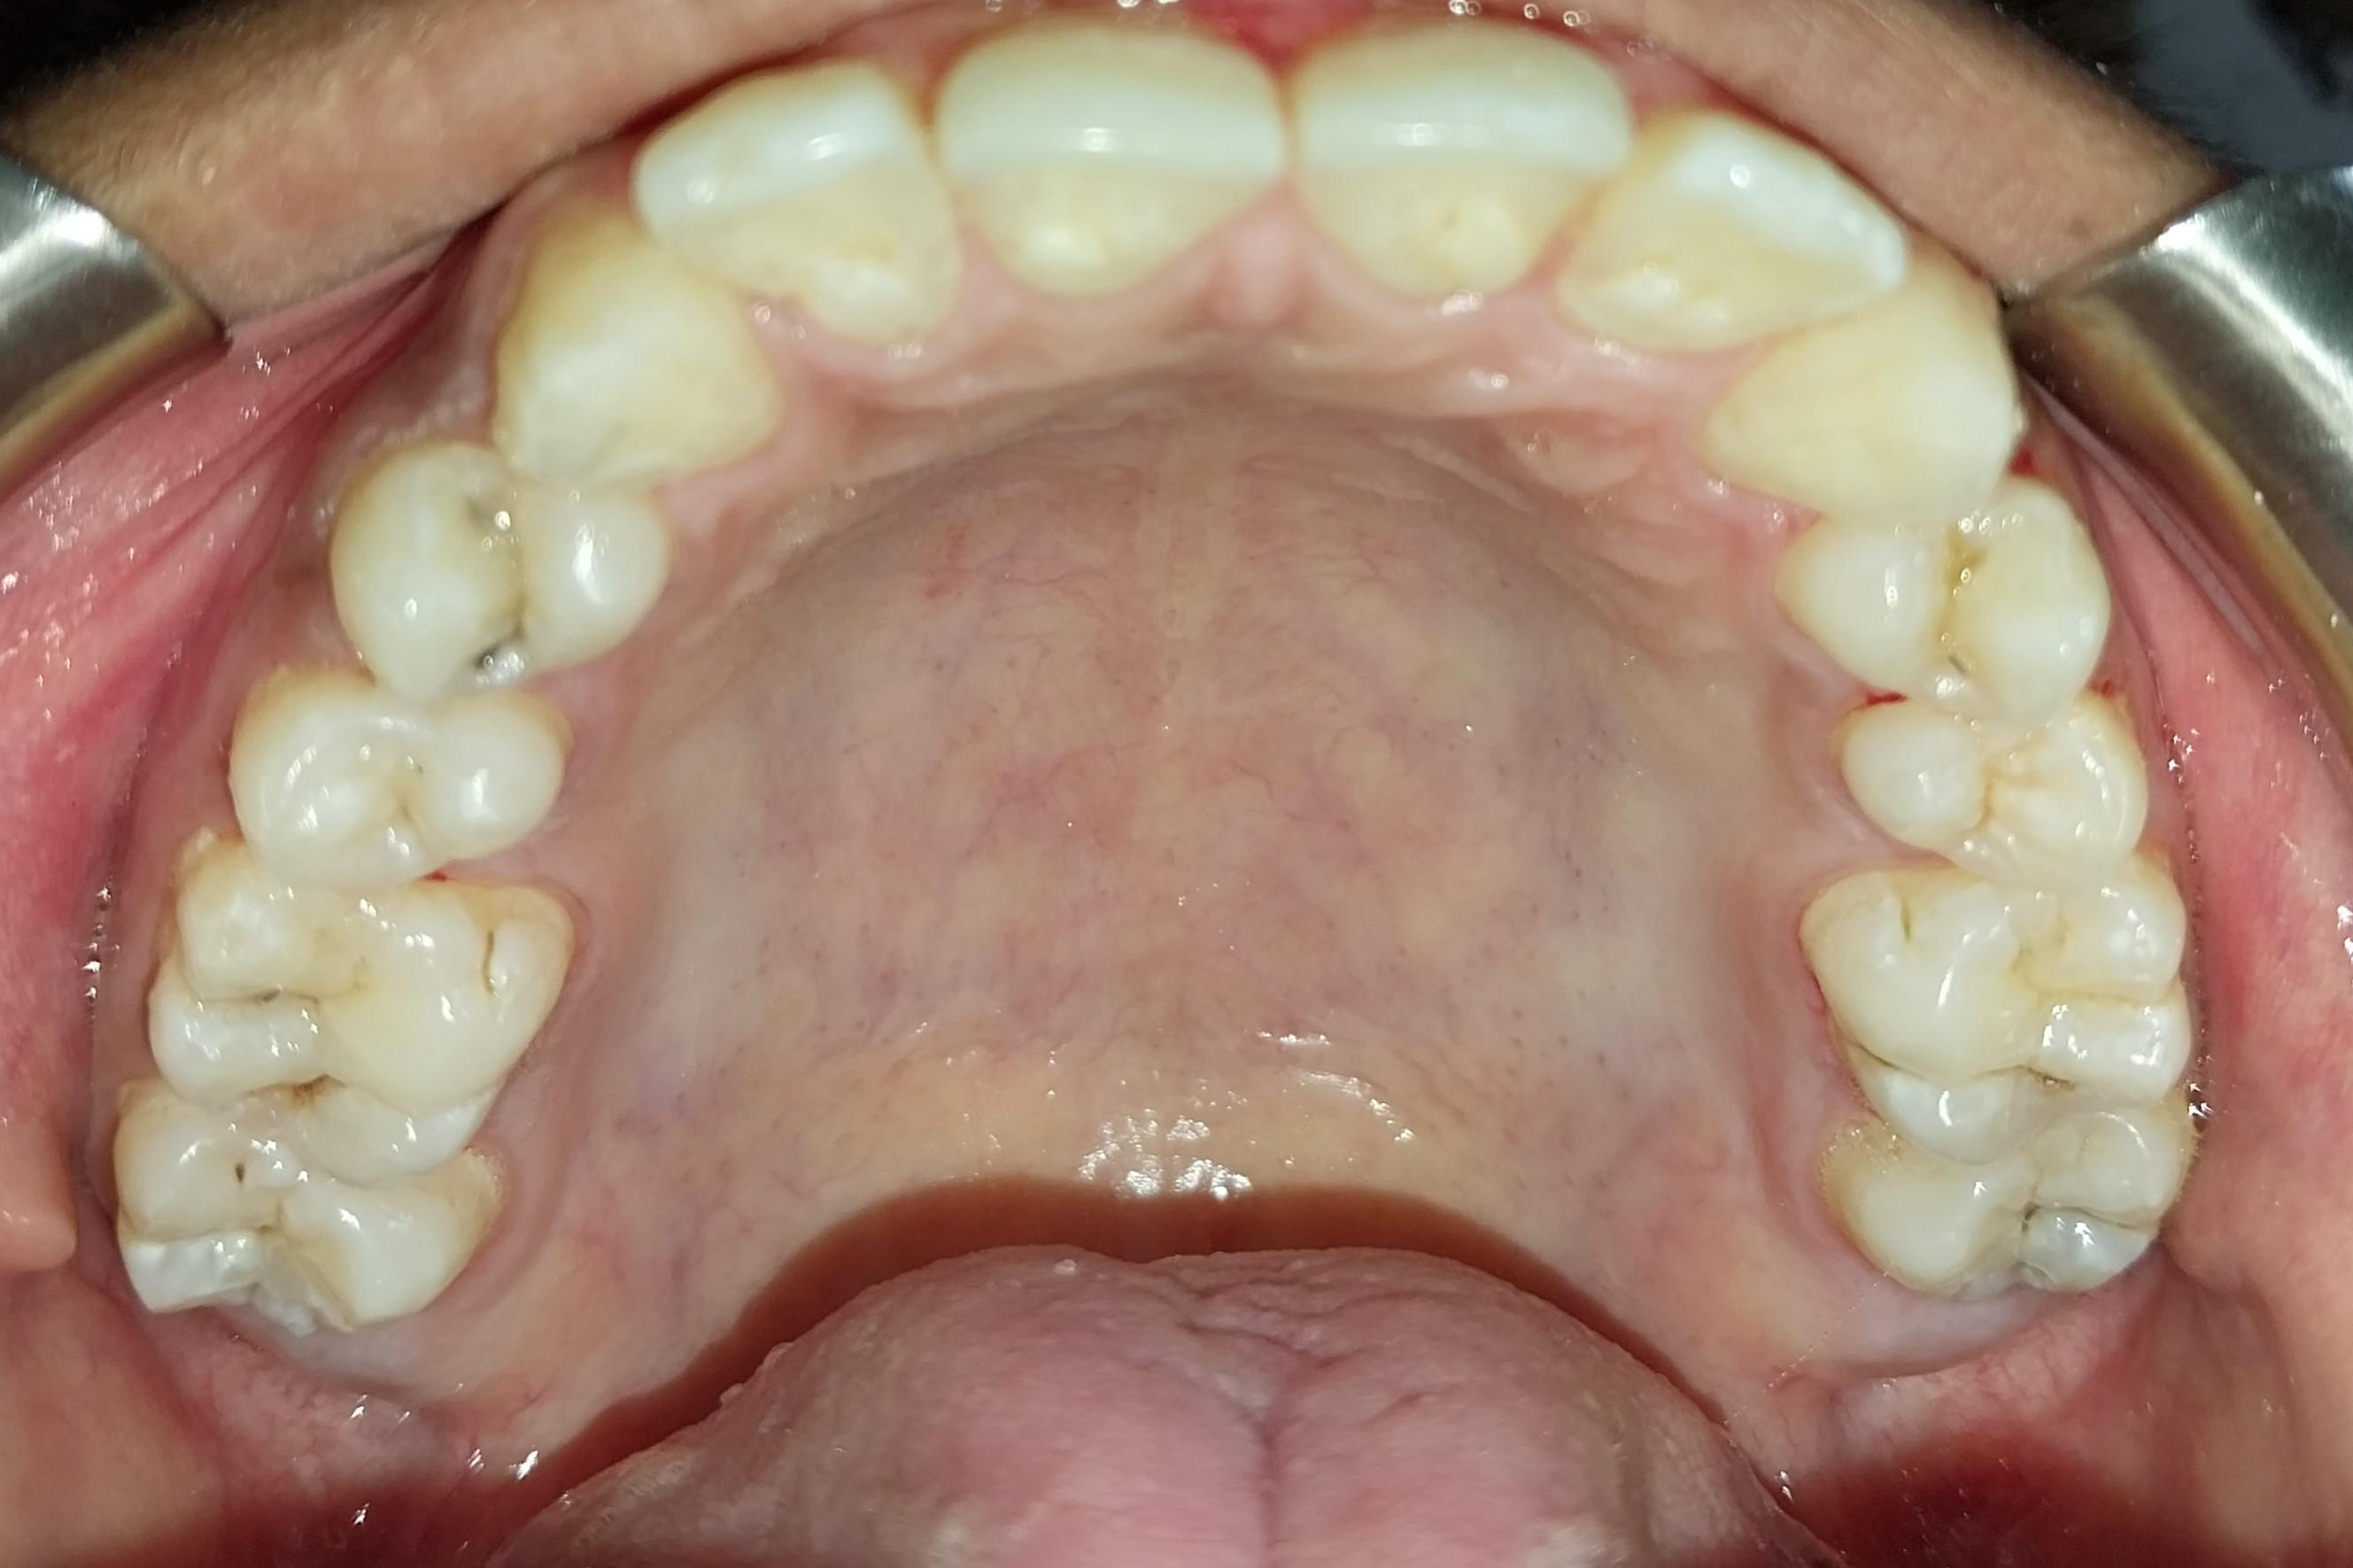D: (158, 859, 578, 1177), (1816, 877, 2194, 1158), (331, 446, 663, 697), (1831, 1107, 2186, 1302)
